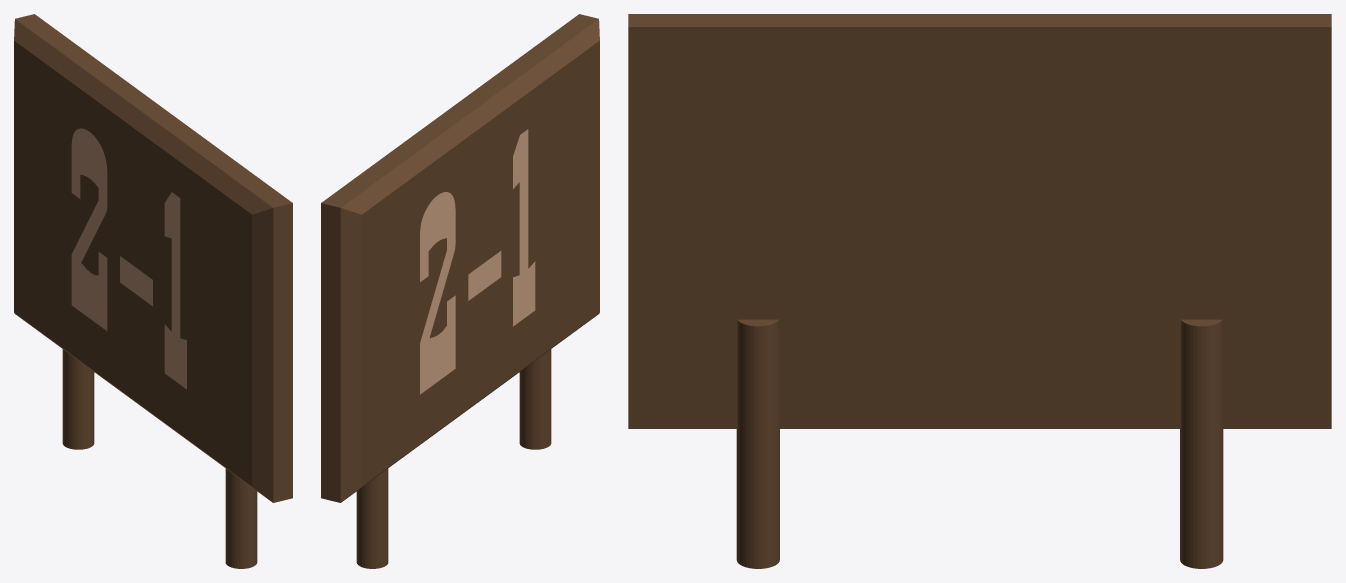
3 renders of one model, left to right at view 1: azimuth 30°, elevation 25°; view 2: azimuth 150°, elevation 25°; view 3: azimuth 270°, elevation 25°, orthographic. The views are drawn at different scales.
Visible parts, largest first — view 1: Cube.007, Text, Cylinder, Cylinder.001; view 2: Cube.007, Text, Cylinder.001, Cylinder; view 3: Cube.007, Cylinder, Cylinder.001.
Part boxes in pixels (x1,y1,x2,y2): Cube.007: (14, 14, 292, 502); Text: (71, 128, 186, 389); Cylinder: (62, 349, 94, 449); Cylinder.001: (225, 468, 257, 568); Cube.007: (321, 14, 599, 502); Text: (420, 129, 535, 394); Cylinder.001: (519, 349, 551, 449); Cylinder: (356, 468, 388, 568); Cube.007: (628, 14, 1331, 428); Cylinder: (1180, 319, 1223, 568); Cylinder.001: (736, 319, 779, 568).
Size of the model in its own units: 28.97 by 266 by 317.
